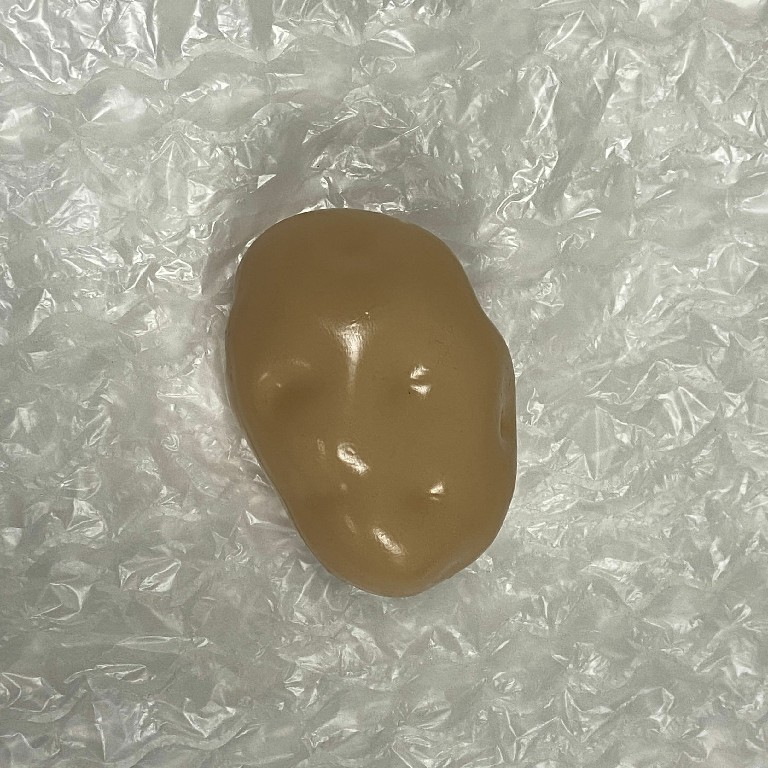fruit_potato: (219, 205, 525, 599)
